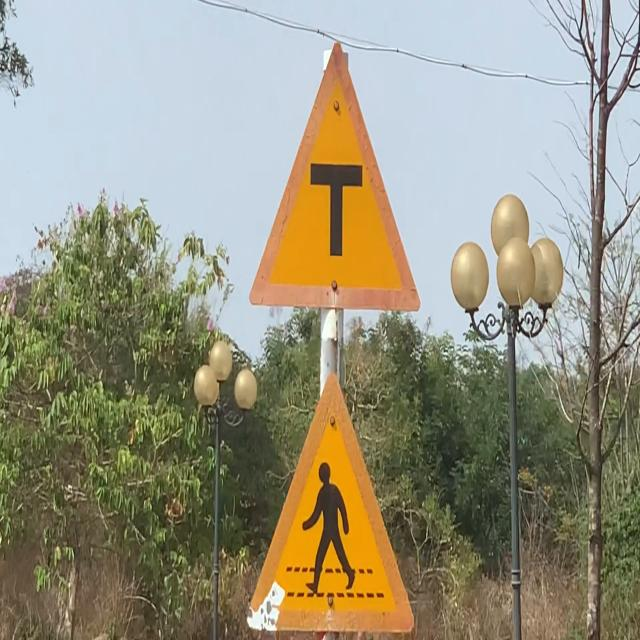Duong giao nhau: (248, 38, 422, 314)
Nguoi di bo cat ngang: (242, 364, 417, 637)
